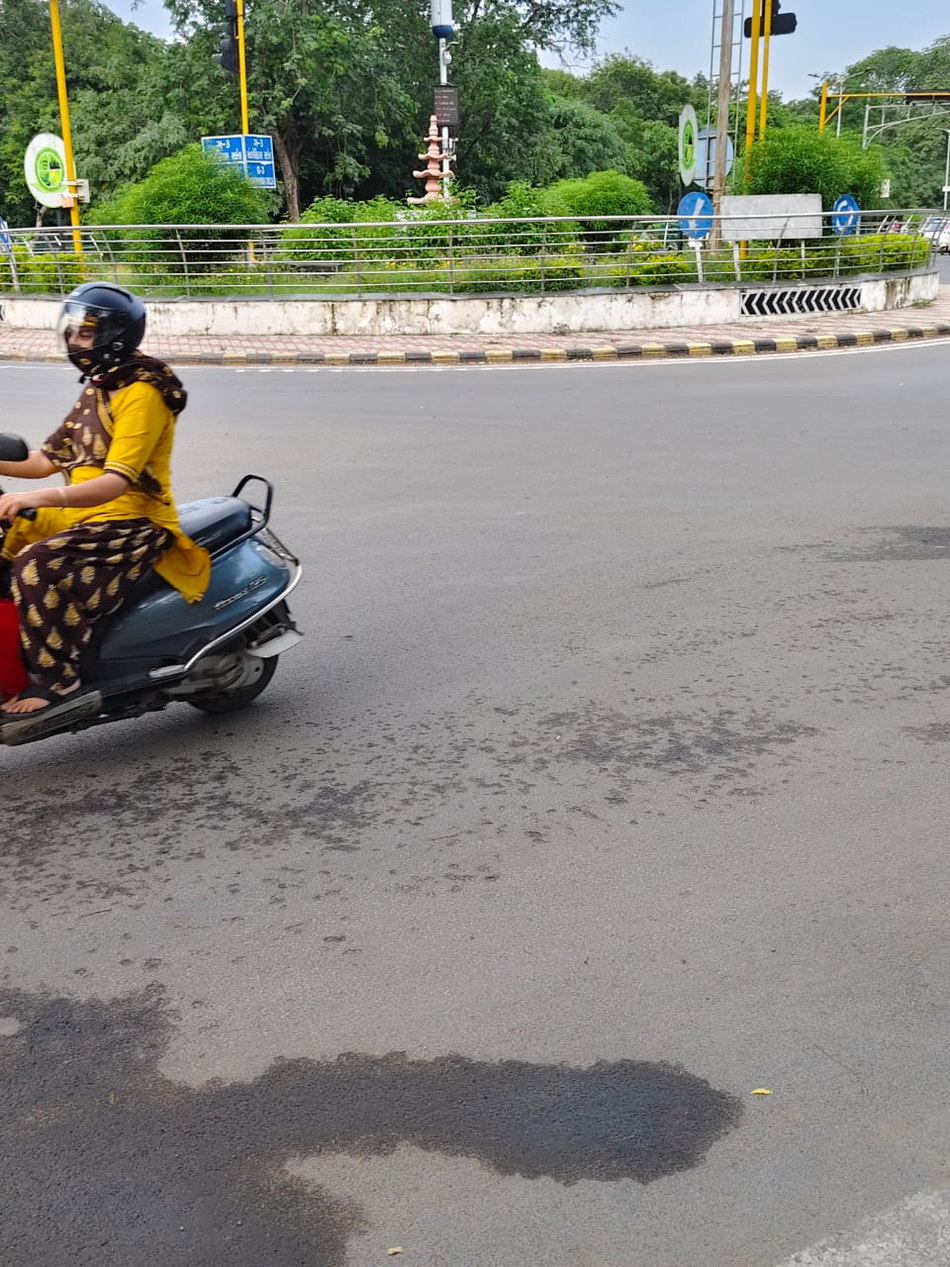BikeWithRider: (1, 271, 320, 765)
Helmet: (46, 273, 158, 383)
